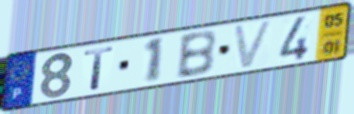1: (141, 35, 166, 86)
4: (277, 13, 311, 63)
8: (38, 51, 75, 99)
B: (174, 29, 218, 81)
T: (83, 45, 117, 92)
V: (231, 18, 276, 72)
